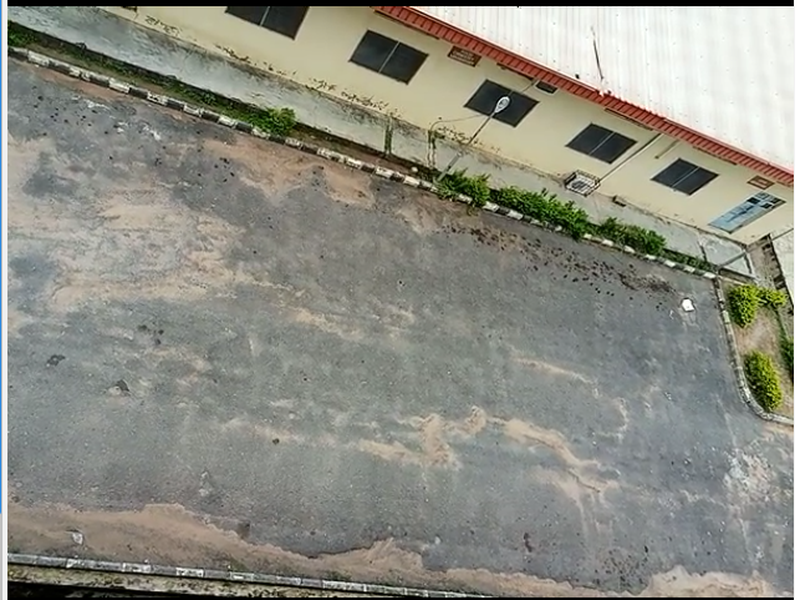five: (652, 234, 758, 389)
four: (499, 190, 600, 359)
one: (11, 22, 123, 273)
three: (338, 164, 448, 317)
two: (175, 107, 295, 284)
